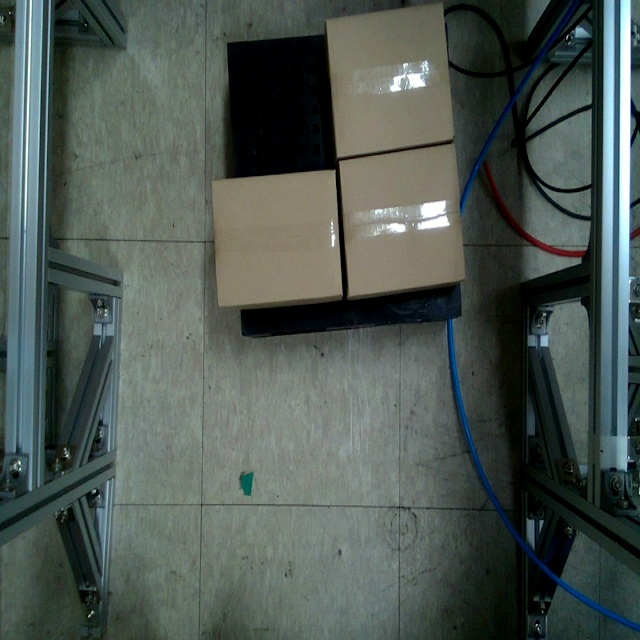box: (336, 140, 470, 300), (324, 1, 456, 161), (208, 167, 343, 308)
